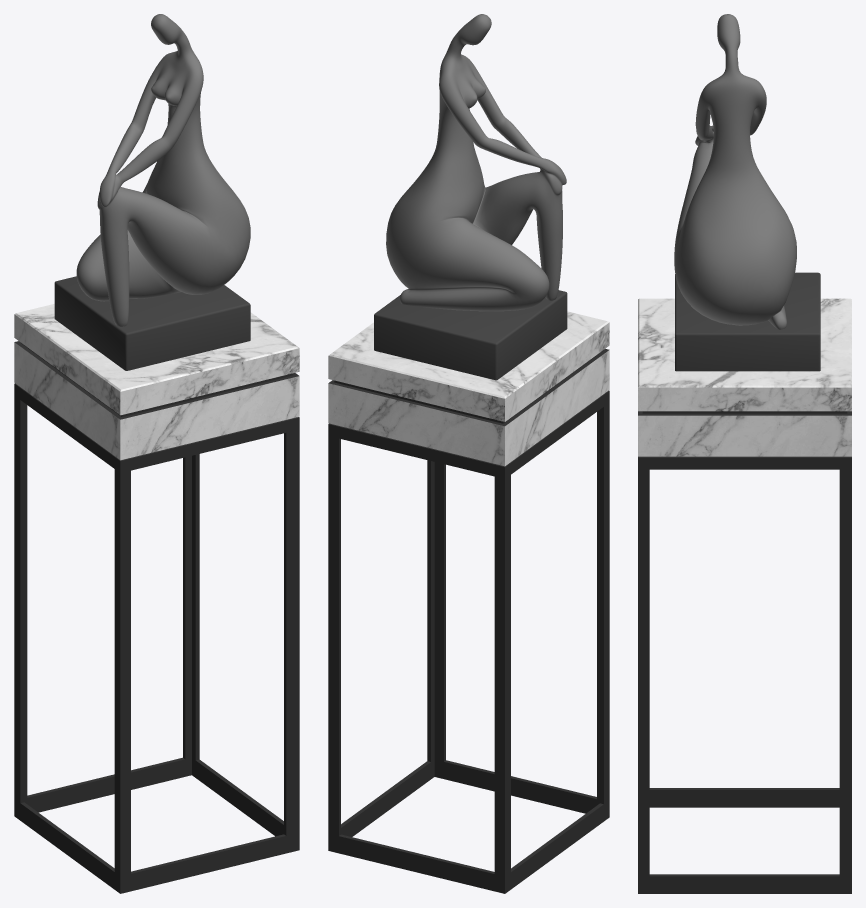
3 renders of one model, left to right at view 1: azimuth 30°, elevation 25°; view 2: azimuth 150°, elevation 25°; view 3: azimuth 270°, elevation 25°, orthographic. The views are drawn at different scales.
Parts seen in each view (by area): view 1: 雕塑03; view 2: 雕塑03; view 3: 雕塑03.
Boxes of the visible parts, left/top/right/bottom form: 雕塑03: left=14, top=14, right=299, bottom=893; 雕塑03: left=328, top=14, right=609, bottom=893; 雕塑03: left=638, top=14, right=851, bottom=893.
Size of the model in its own units: 0.3016 by 1.33 by 0.3092.
Materials: 6 (2 with a texture image).
